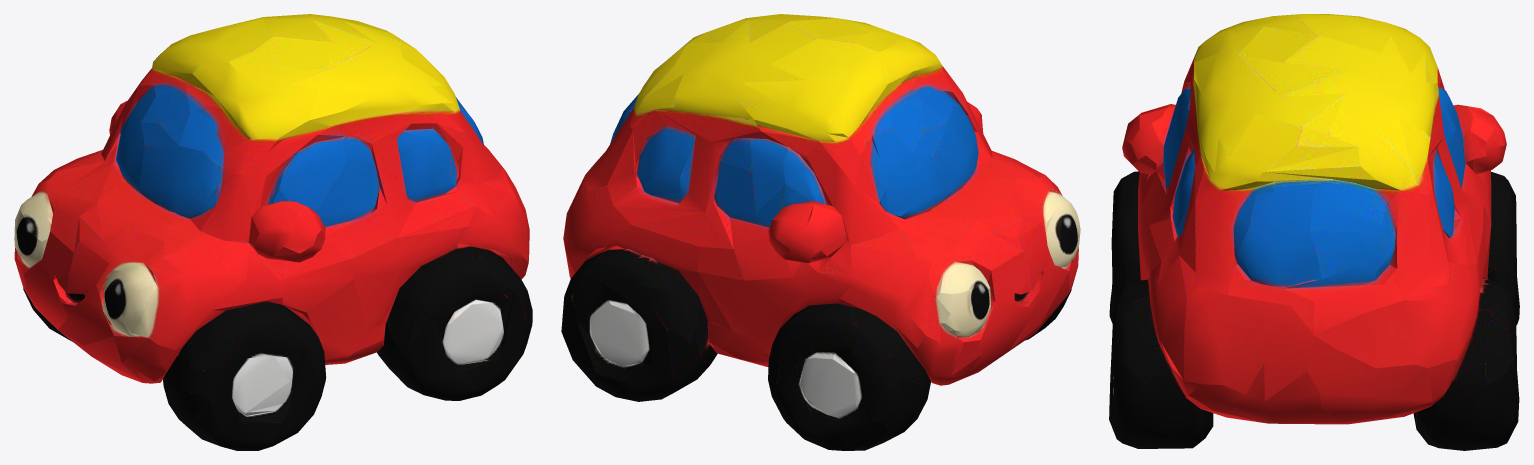
The model's file is ting-bil.glb.
3 renders of one model, left to right at view 1: azimuth 30°, elevation 25°; view 2: azimuth 150°, elevation 25°; view 3: azimuth 270°, elevation 25°, orthographic. The views are drawn at different scales.
Bounding box in the file's own units: 1.9 × 1.39 × 1.47.
1 material, 1 textured.
